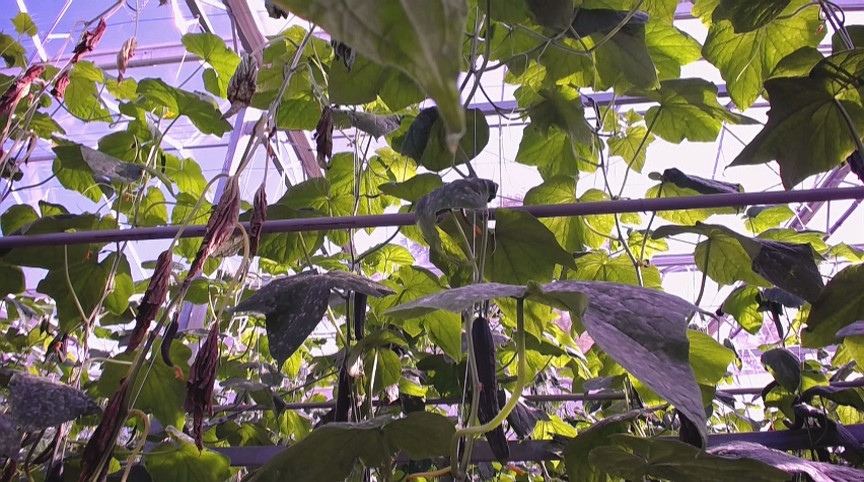cucumber: (469, 321, 509, 460), (352, 290, 370, 343)
